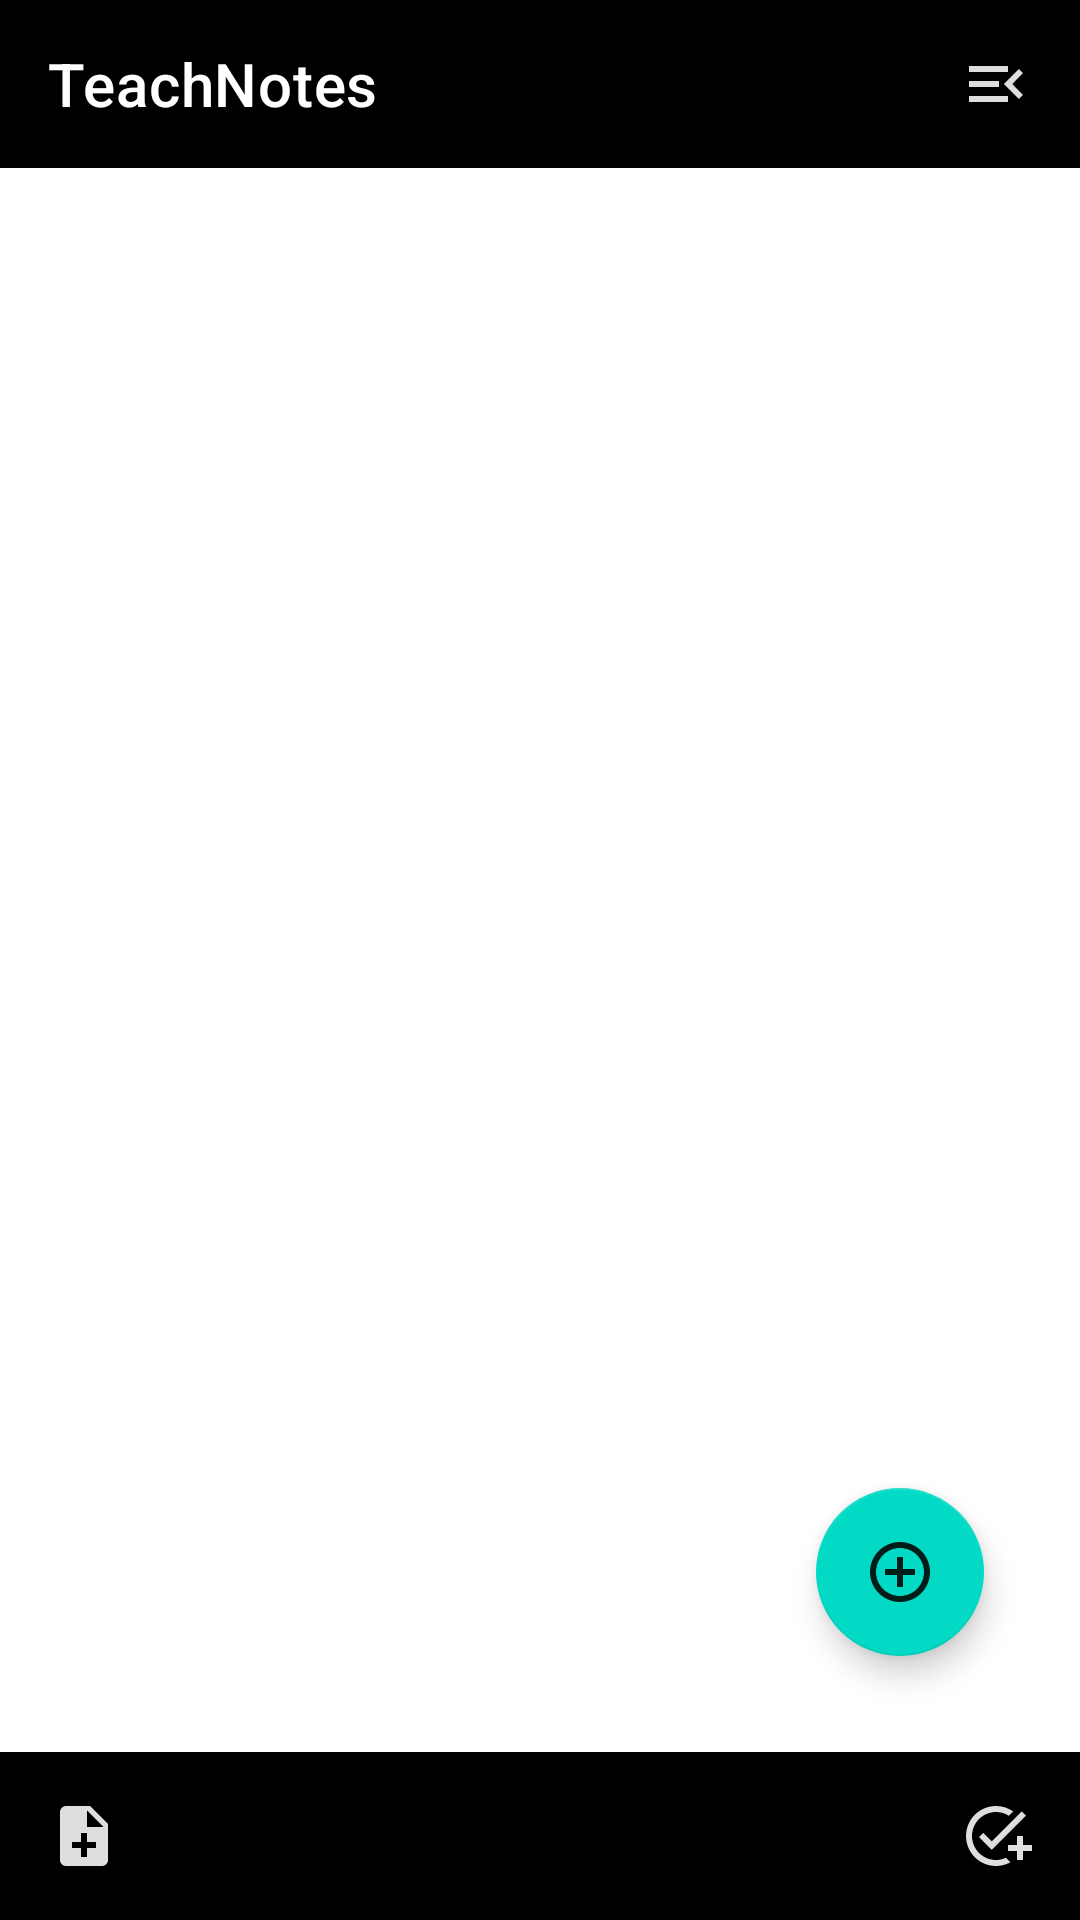

Named icons in this screenshot (1080px x 1920px) and their bounding boxes, (x1,y1,x2,y2):
add circle: (816,1488,984,1656)
add task: (966,1806,1032,1866)
menu: (969,66,1023,102)
note add: (60,1806,108,1866)
